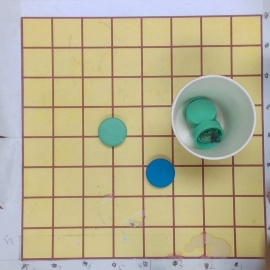blue: (145, 157, 176, 188), (98, 117, 127, 148)
cup_green: (169, 75, 256, 162)
